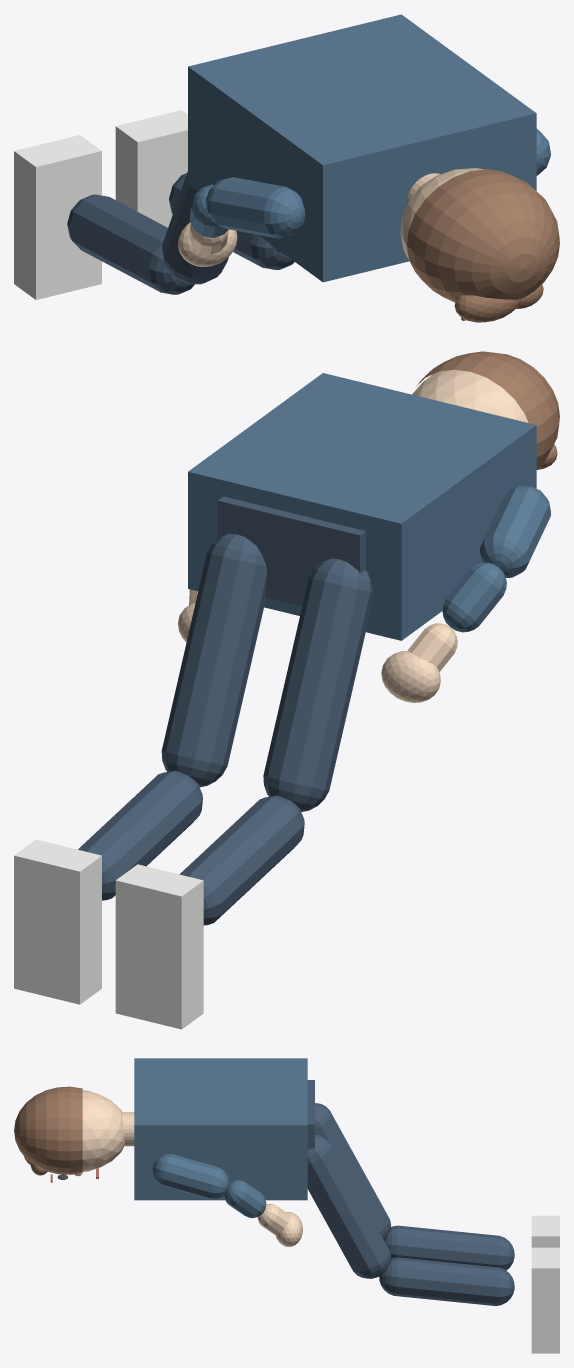
Rendered from CHAR_MALE_001_POSE_SIT_001.glb.
3 views of the same model, one above another, from view 1: azimuth 30°, elevation 25°; view 2: azimuth 150°, elevation 25°; view 3: azimuth 270°, elevation 25° (orthographic). The views are drawn at different scales.
Visible parts, largest first — view 1: CHAR_MALE_001_torso_jacket, CHAR_MALE_001_hair_cap, CHAR_MALE_001_shoe_L, CHAR_MALE_001_shin_L, CHAR_MALE_001_shoe_R, CHAR_MALE_001_upper_arm_L, CHAR_MALE_001_thigh_L, CHAR_MALE_001_shin_R, CHAR_MALE_001_hair_quiff, CHAR_MALE_001_head, CHAR_MALE_001_hand_L, CHAR_MALE_001_forearm_L (+2 smaller); view 2: CHAR_MALE_001_torso_jacket, CHAR_MALE_001_thigh_L, CHAR_MALE_001_thigh_R, CHAR_MALE_001_shoe_L, CHAR_MALE_001_shoe_R, CHAR_MALE_001_pelvis, CHAR_MALE_001_shin_L, CHAR_MALE_001_shin_R, CHAR_MALE_001_hair_cap, CHAR_MALE_001_upper_arm_L, CHAR_MALE_001_head, CHAR_MALE_001_forearm_L (+2 smaller); view 3: CHAR_MALE_001_torso_jacket, CHAR_MALE_001_thigh_R, CHAR_MALE_001_hair_cap, CHAR_MALE_001_shin_R, CHAR_MALE_001_shin_L, CHAR_MALE_001_shoe_R, CHAR_MALE_001_head, CHAR_MALE_001_upper_arm_R, CHAR_MALE_001_thigh_L, CHAR_MALE_001_forearm_R, CHAR_MALE_001_shoe_L, CHAR_MALE_001_wrist_R (+3 smaller).
Part boxes in pixels (bbox=[...]): CHAR_MALE_001_torso_jacket: bbox=[188, 14, 536, 282]; CHAR_MALE_001_hair_cap: bbox=[407, 169, 559, 302]; CHAR_MALE_001_shoe_L: bbox=[14, 135, 101, 299]; CHAR_MALE_001_shin_L: bbox=[67, 194, 194, 294]; CHAR_MALE_001_shoe_R: bbox=[115, 110, 187, 227]; CHAR_MALE_001_upper_arm_L: bbox=[206, 177, 305, 238]; CHAR_MALE_001_thigh_L: bbox=[162, 171, 237, 284]; CHAR_MALE_001_shin_R: bbox=[169, 173, 294, 269]; CHAR_MALE_001_hair_quiff: bbox=[454, 295, 520, 322]; CHAR_MALE_001_head: bbox=[400, 168, 483, 266]; CHAR_MALE_001_hand_L: bbox=[178, 222, 237, 266]; CHAR_MALE_001_forearm_L: bbox=[189, 184, 228, 237]; CHAR_MALE_001_torso_jacket: bbox=[188, 373, 536, 640]; CHAR_MALE_001_thigh_L: bbox=[263, 558, 372, 811]; CHAR_MALE_001_thigh_R: bbox=[161, 534, 267, 787]; CHAR_MALE_001_shoe_L: bbox=[115, 864, 203, 1029]; CHAR_MALE_001_shoe_R: bbox=[14, 839, 101, 1004]; CHAR_MALE_001_pelvis: bbox=[217, 496, 365, 606]; CHAR_MALE_001_shin_L: bbox=[179, 795, 304, 925]; CHAR_MALE_001_shin_R: bbox=[78, 771, 202, 900]; CHAR_MALE_001_hair_cap: bbox=[416, 351, 559, 467]; CHAR_MALE_001_upper_arm_L: bbox=[480, 486, 550, 577]; CHAR_MALE_001_head: bbox=[412, 369, 528, 422]; CHAR_MALE_001_forearm_L: bbox=[442, 562, 506, 632]; CHAR_MALE_001_torso_jacket: bbox=[134, 1058, 307, 1200]; CHAR_MALE_001_thigh_R: bbox=[307, 1135, 390, 1278]; CHAR_MALE_001_hair_cap: bbox=[14, 1086, 82, 1174]; CHAR_MALE_001_shin_R: bbox=[379, 1257, 514, 1305]; CHAR_MALE_001_shin_L: bbox=[384, 1225, 514, 1270]; CHAR_MALE_001_shoe_R: bbox=[531, 1247, 559, 1353]; CHAR_MALE_001_head: bbox=[82, 1090, 124, 1171]; CHAR_MALE_001_upper_arm_R: bbox=[152, 1154, 229, 1199]; CHAR_MALE_001_thigh_L: bbox=[315, 1103, 391, 1240]; CHAR_MALE_001_forearm_R: bbox=[224, 1180, 266, 1218]; CHAR_MALE_001_shoe_L: bbox=[531, 1215, 559, 1247]; CHAR_MALE_001_wrist_R: bbox=[257, 1203, 290, 1235].
Size of the model in its own units: 0.6337 by 0.6983 by 1.47.
